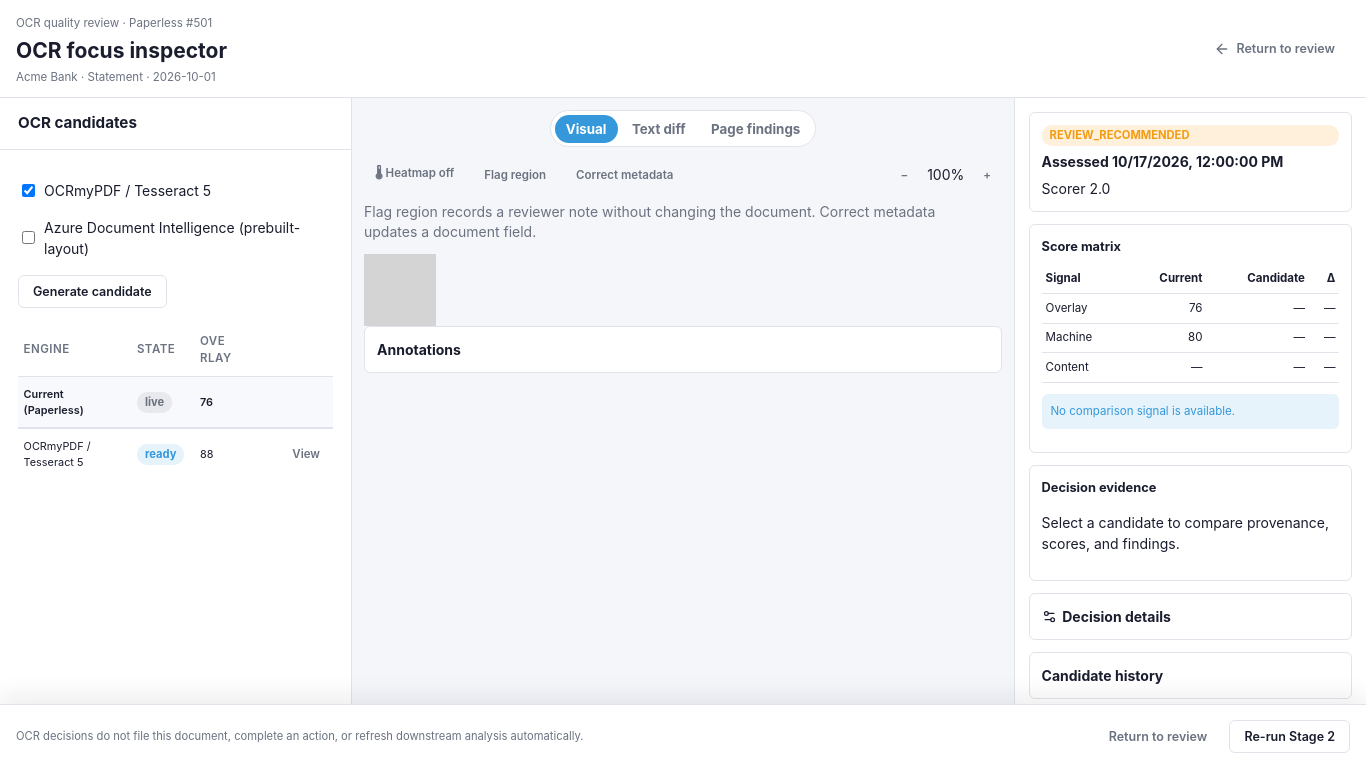
Scenario: OcrFocusInspector › blocks acceptance when comparison findings are blocking
Click the button "View" at point(306, 454), box [285,441,327,467]
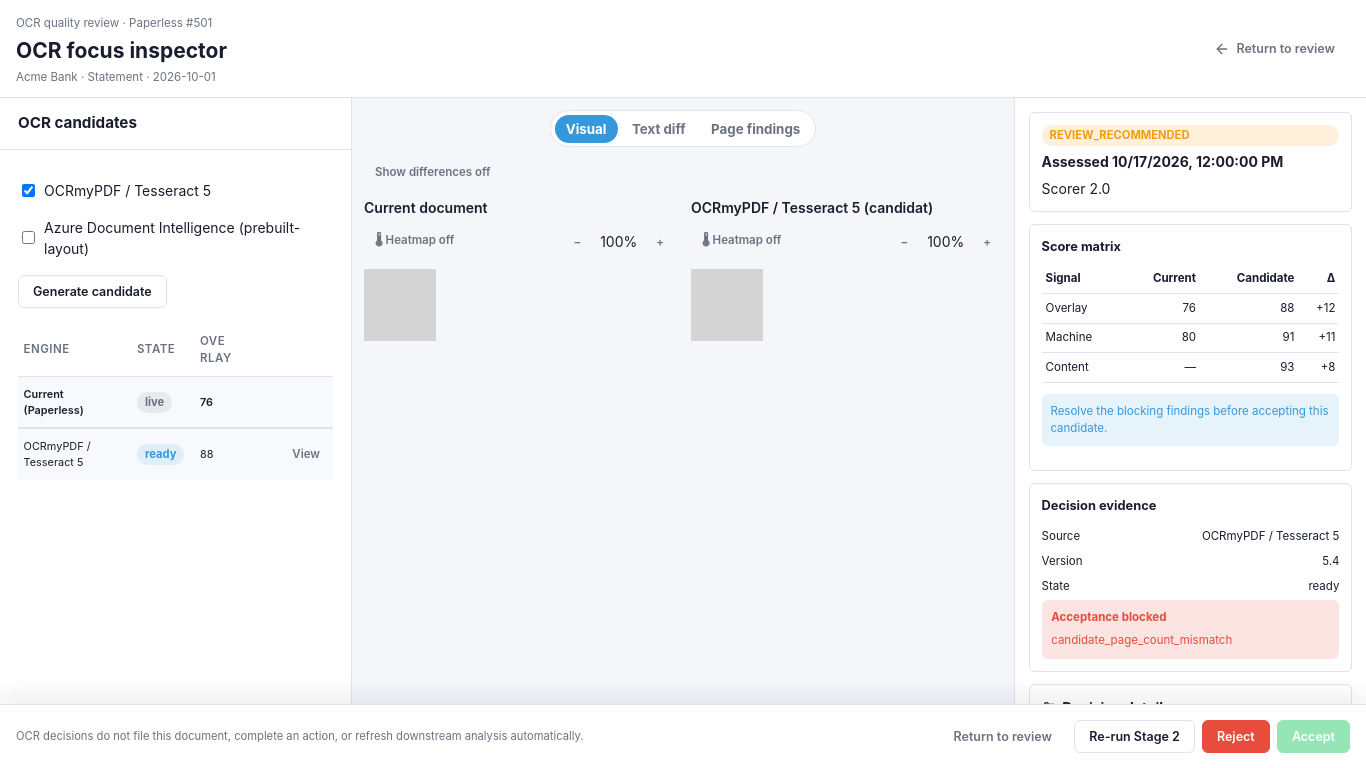
Expected: the text "Acceptance blocked" is shown, [1051,610,1166,624]
Expected: the button "Accept" is disabled, [1277,720,1350,753]
